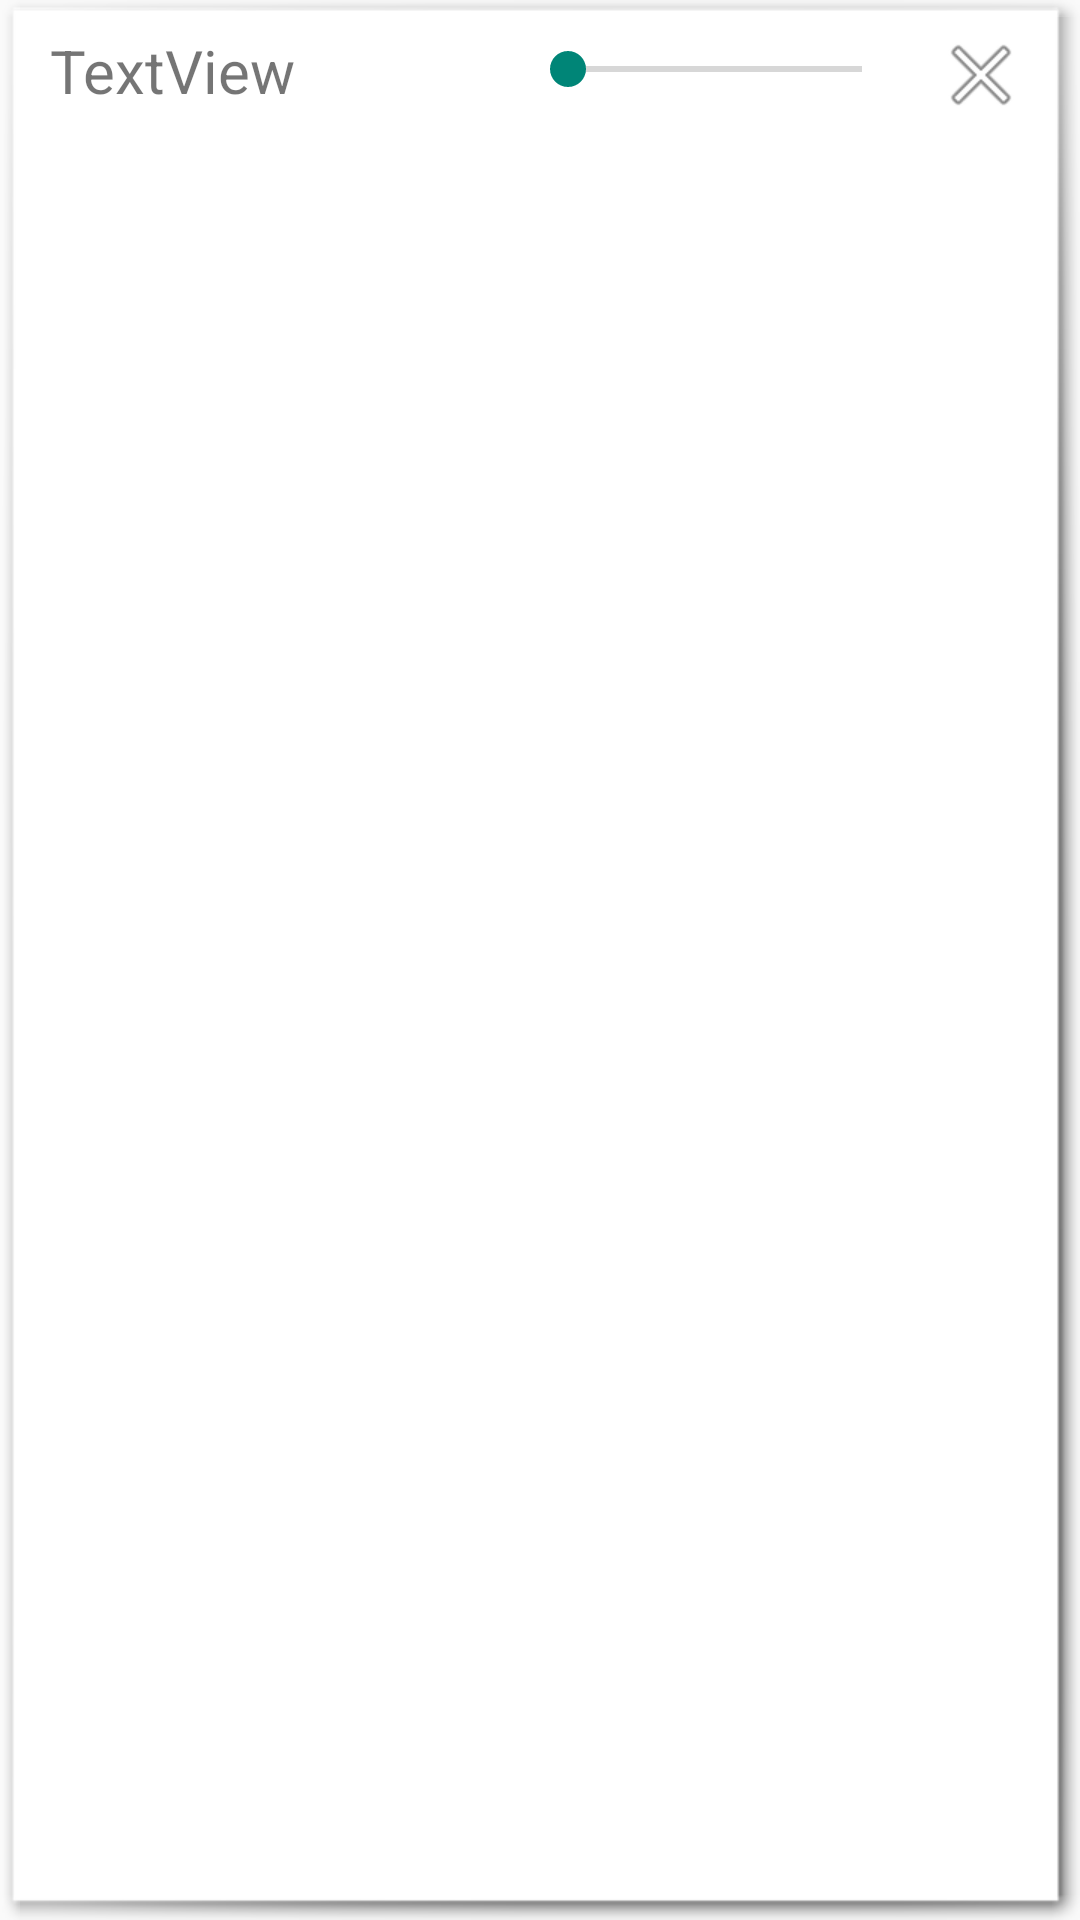

Icon bounding boxes for this 1080w x 1920h phone screenshot, format (x1, y1, x2, y2):
close clear cancel: (951, 45, 1011, 105)
